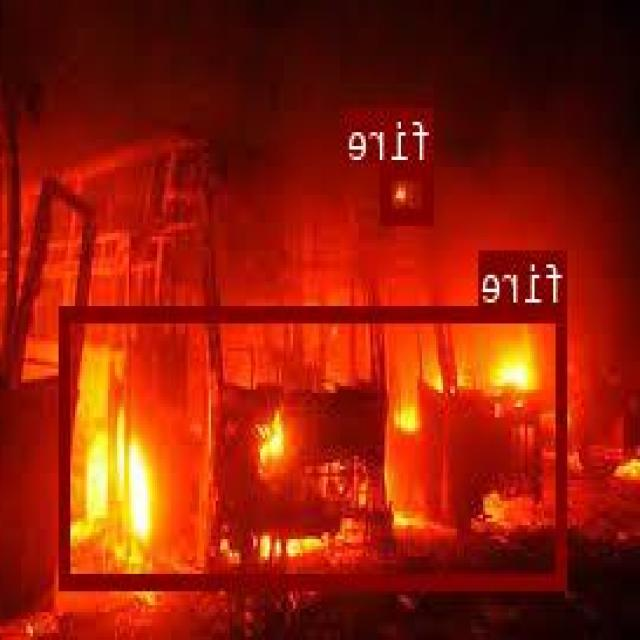fire: (63, 304, 568, 587), (384, 162, 434, 219)
